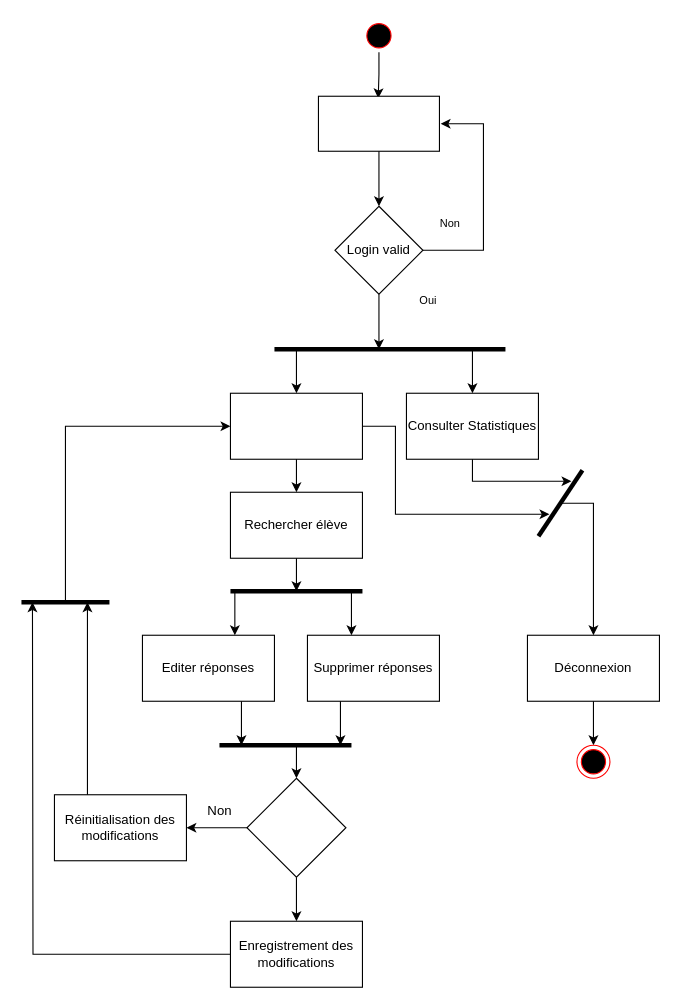
Image size: 679x1007. Some labels were removed from this diagram. The shapes that lost their labels are listed below. From the top down, each one's box as (x1, y1, x2, y2) in pixels, then its label:
(317, 95, 439, 151): Login
(229, 392, 362, 459): Consulter réponses
(246, 777, 346, 877): Sauvegarder
